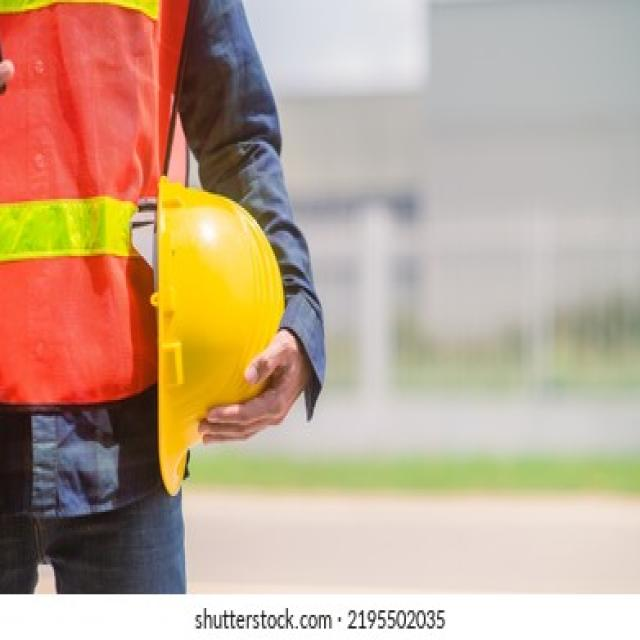helmet: (142, 171, 284, 500)
